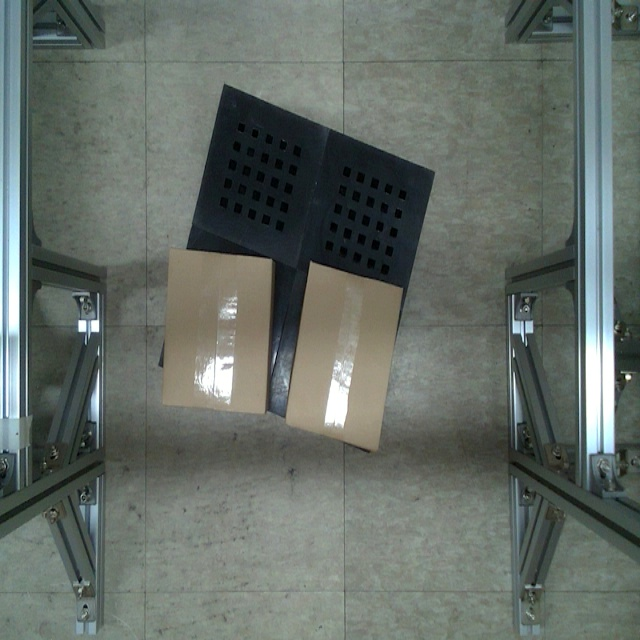box: (283, 258, 407, 455), (161, 248, 276, 417)
